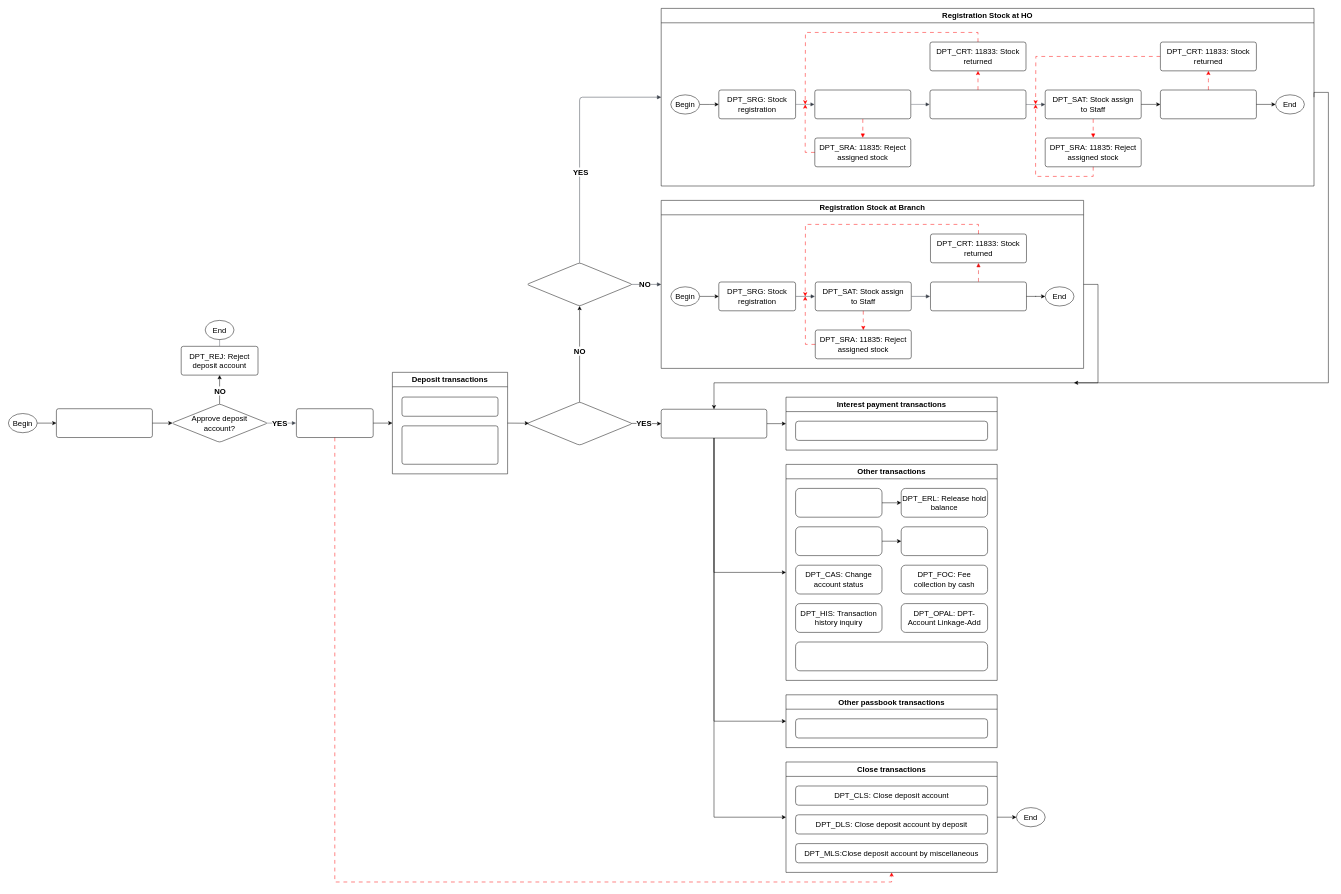
This 1341x894 diagram has some shape labels left out. Each missing label, with the centre of its shape:
Do you have "Reciept "?: (579,423)
DPT_APR: Approve deposit account: (334,423)
DPT_BLK: Block account: (838,541)
DPT_CCR: Stock confirm received: (978,296)
DPT_CCR: Stock confirm received (branch confirm): (978,104)
DPT_CCR: Stock confirm received (teller confirm): (1208,104)
DPT_CDP: Cash deposit: (450,406)
DPT_CER: 11803: Fixed deposit receipt issued: (714,423)
DPT_CTS: Change status of stock: (891,728)
DPT_EMK: Hold balance: (838,502)
DPT_IPR: Payment interest for prepaid fixed deposit: (891,430)
DPT_OPN: Open new deposit account: (104,423)
DPT_RCTM: Change deposit account name and relation customers: (891,656)
DPT_RLS: Release block account: (944,541)
DPT_SAB: 11831: Stock assigned to branch: (862,104)
DPT_TRF: Transfer from deposit account to deposit account: (450,444)
Is the user in HO?: (579,284)
